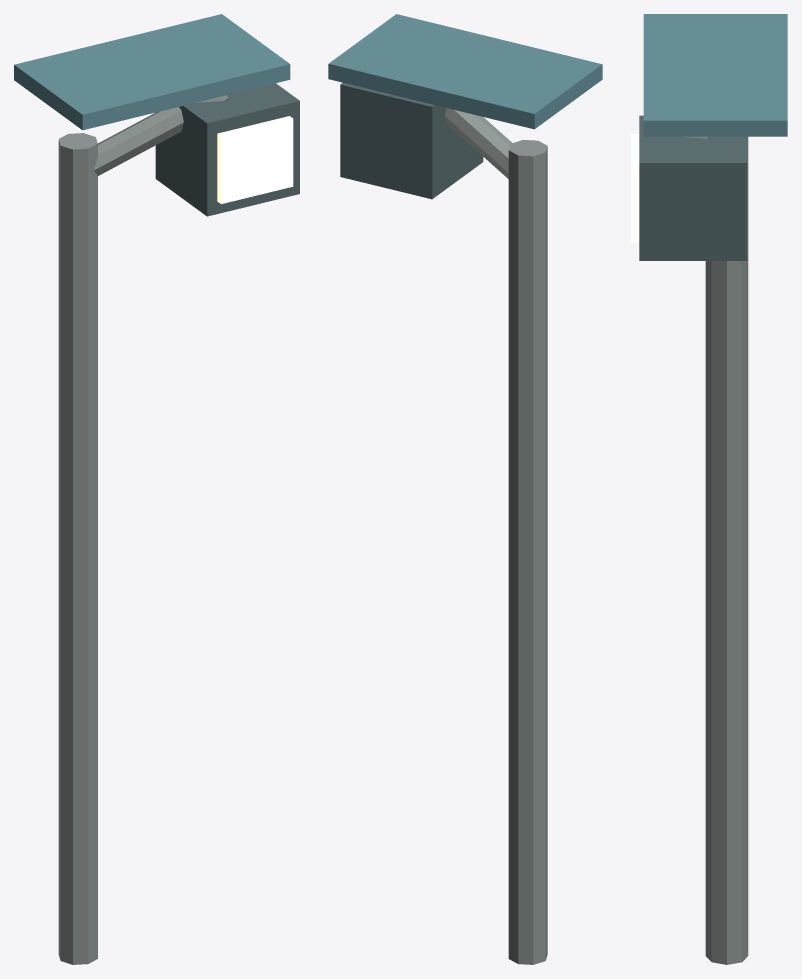
File: town_lamp.glb
3 views of the same model, side by side, from view 1: azimuth 30°, elevation 25°; view 2: azimuth 150°, elevation 25°; view 3: azimuth 270°, elevation 25° (orthographic). The views are drawn at different scales.
Parts seen in each view (by area): view 1: steel lamp post, lamp solar cap, warm lantern housing, working lantern pane, lamp curved arm; view 2: steel lamp post, lamp solar cap, warm lantern housing, lamp curved arm; view 3: steel lamp post, lamp solar cap, warm lantern housing, working lantern pane.
Boxes of the visible parts, x1,y1,x2,y2 form: steel lamp post: (58, 133, 97, 964); lamp solar cap: (14, 14, 290, 130); warm lantern housing: (155, 83, 299, 216); working lantern pane: (217, 116, 293, 204); lamp curved arm: (93, 95, 228, 175); steel lamp post: (508, 140, 547, 964); lamp solar cap: (328, 14, 602, 129); warm lantern housing: (340, 83, 483, 199); lamp curved arm: (445, 108, 512, 178); steel lamp post: (705, 136, 748, 964); lamp solar cap: (643, 14, 787, 136); warm lantern housing: (639, 115, 747, 260); working lantern pane: (631, 134, 639, 242).
Bounding box in the file's own units: 1.16 × 4.53 × 0.695.
